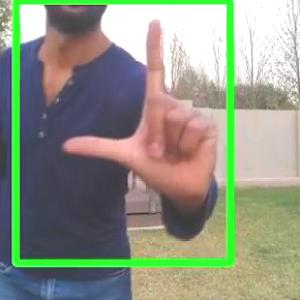land_hand: (61, 12, 223, 203)
